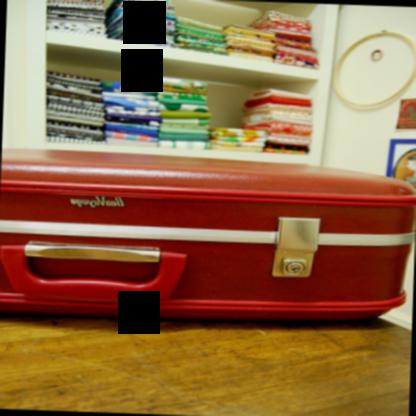suitcase: (0, 149, 416, 325)
